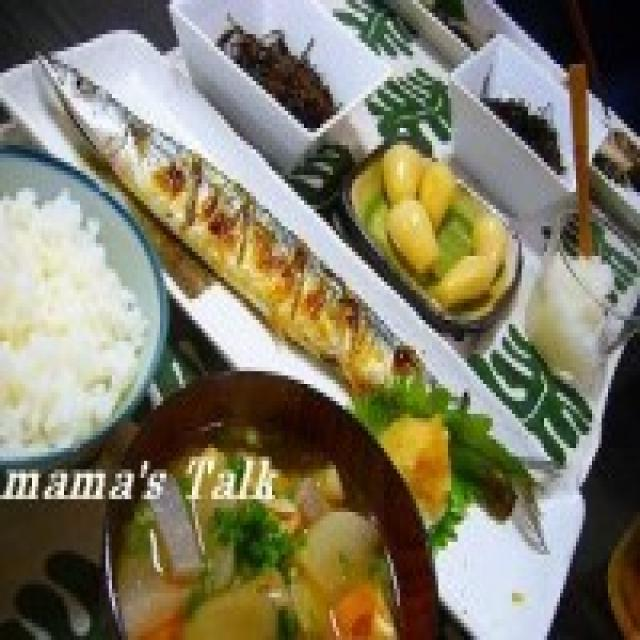熟制海鲜: (38, 47, 580, 491)
